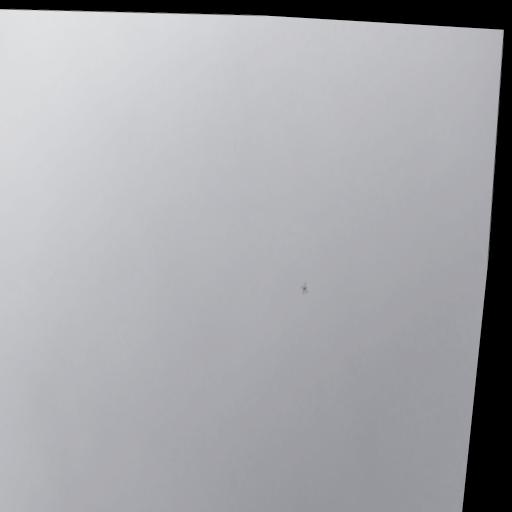drones: (299, 280, 309, 295)
